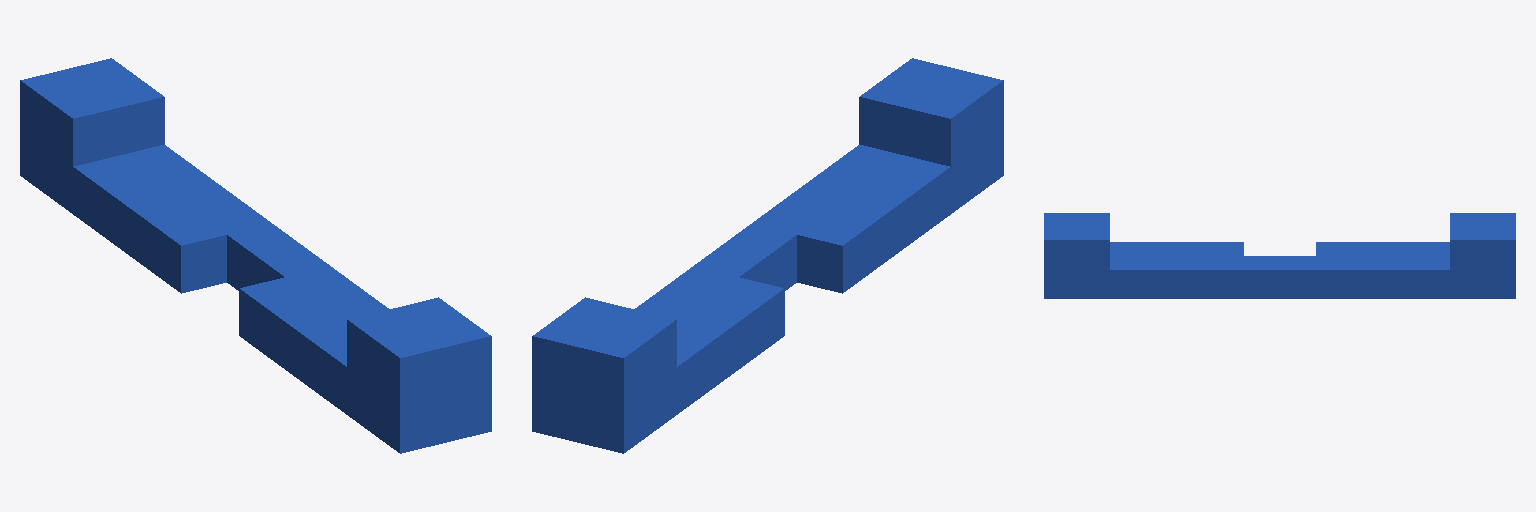
The robot description file, URDF, robot "obj_3":
<robot name="obj_3" version="1.0">
  <link name="obj_3">
    <collision name="long-piece-2-collision.001">
      <origin rpy="0.00000 0.00000 0.00000" xyz="0.00000 0.00000 0.00000"/>
      <geometry>
        <mesh filename="../meshes/obj/long-piece-2-collision.001.obj" scale="1.00000 1.00000 1.00000"/>
      </geometry>
    </collision>
    <collision name="long-piece-2-collision.002">
      <origin rpy="0.00000 0.00000 0.00000" xyz="0.00000 0.00000 0.00000"/>
      <geometry>
        <mesh filename="../meshes/obj/long-piece-2-collision.002.obj" scale="1.00000 1.00000 1.00000"/>
      </geometry>
    </collision>
    <collision name="long-piece-2-collision.003">
      <origin rpy="0.00000 0.00000 0.00000" xyz="0.00000 0.00000 0.00000"/>
      <geometry>
        <mesh filename="../meshes/obj/long-piece-2-collision.003.obj" scale="1.00000 1.00000 1.00000"/>
      </geometry>
    </collision>
    <collision name="long-piece-2-collision.004">
      <origin rpy="0.00000 0.00000 0.00000" xyz="0.00000 0.00000 0.00000"/>
      <geometry>
        <mesh filename="../meshes/obj/long-piece-2-collision.004.obj" scale="1.00000 1.00000 1.00000"/>
      </geometry>
    </collision>
    <collision name="long-piece-2-collision.005">
      <origin rpy="0.00000 0.00000 0.00000" xyz="0.00000 0.00000 0.00000"/>
      <geometry>
        <mesh filename="../meshes/obj/long-piece-2-collision.005.obj" scale="1.00000 1.00000 1.00000"/>
      </geometry>
    </collision>
    <inertial>
      <inertia ixx="0.00007" ixy="-0.00000" ixz="0.00000" iyy="0.00000" iyz="0.00000" izz="0.00007"/>
      <origin rpy="0.00000 0.00000 0.00000" xyz="-0.20427 0.18820 0.17376"/>
      <mass value="0.00500"/>
    </inertial>
    <visual name="long-piece-2">
      <material name="turnarrow"/>
      <origin rpy="0.00000 0.00000 1.57080" xyz="-0.20923 0.18820 0.18048"/>
      <geometry>
        <mesh filename="../meshes/obj/long-piece.002.obj" scale="0.00500 0.00500 0.00500"/>
      </geometry>
    </visual>
  </link>
  <material name="turnarrow">
    <color rgba="0.23137 0.44706 0.80000 1.00000"/>
  </material>
</robot>

--- Facts derived from the render (not from the file) ---
Views: 3 orthographic renders of the robot side by side, from view 1: azimuth 30°, elevation 25°; view 2: azimuth 150°, elevation 25°; view 3: azimuth 270°, elevation 25°.
Robot: obj_3 — 1 links, 0 joints (none); root link obj_3; default pose: every joint at zero.
Visible links, largest first — view 1: obj_3; view 2: obj_3; view 3: obj_3.
Boxes of the visible links, left/top/right/bottom form: obj_3: left=20, top=58, right=491, bottom=453; obj_3: left=532, top=58, right=1003, bottom=453; obj_3: left=1044, top=213, right=1515, bottom=298.
Size in the robot's own frame: 0.05 by 0.36 by 0.05 metres.
Meshes: 1 distinct files referenced, 1 mesh visuals loaded (1 OBJ).